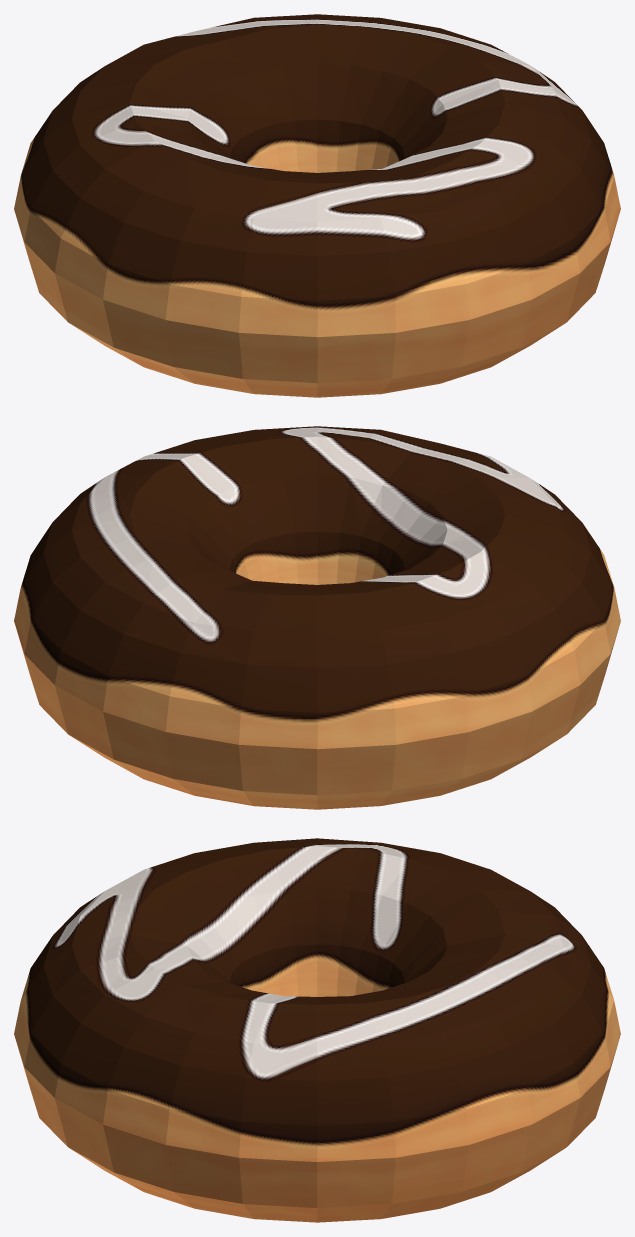
File: donut3.fbx
3 views of the same model, one above another, from view 1: azimuth 30°, elevation 25°; view 2: azimuth 150°, elevation 25°; view 3: azimuth 270°, elevation 25° (orthographic).
Visible parts, largest first — view 1: donut3; view 2: donut3; view 3: donut3.
Boxes of the visible parts, x1,y1,x2,y2 form: donut3: [14, 14, 620, 397]; donut3: [14, 426, 620, 809]; donut3: [14, 838, 620, 1222].
Bounding box in the file's own units: 59.06 × 21.18 × 59.06.
Materials: 1 (1 with a texture image).
